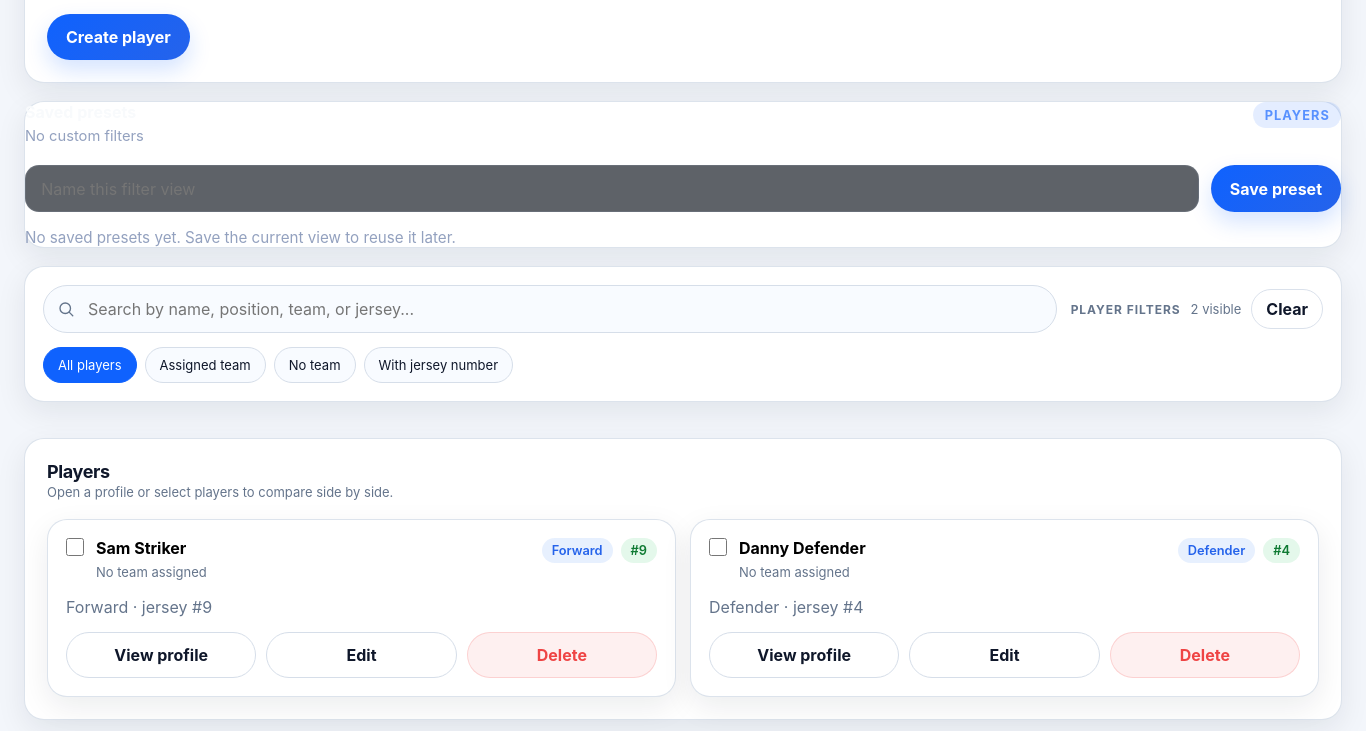
PlayersPage player comparison selection › clears the selection when Clear is clicked
This screenshot has width=1366, height=731.
(page scrolled)
Check: the text "Sam Striker" is shown, box [96, 538, 186, 558]
What coordinates should you click on to do the following:
click the checkbox named "Select Sam Striker for comparison"
I would click on:
 (75, 547)
Its box is [66, 538, 84, 556].
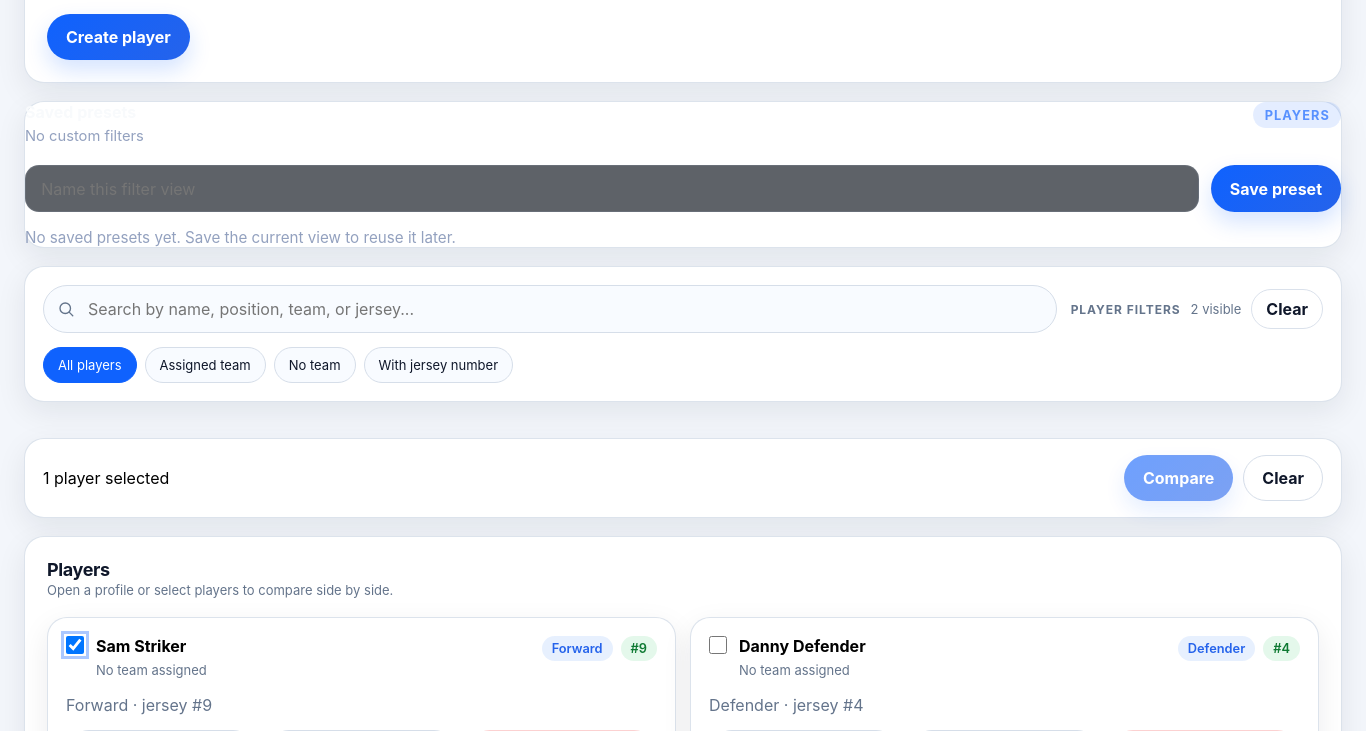
Check: the text "1 player selected" is shown, box [43, 468, 169, 488]
What coordinates should you click on to do the following:
click the 2nd button "Clear"
I would click on:
 (1283, 478)
Its box is [1243, 455, 1323, 501].
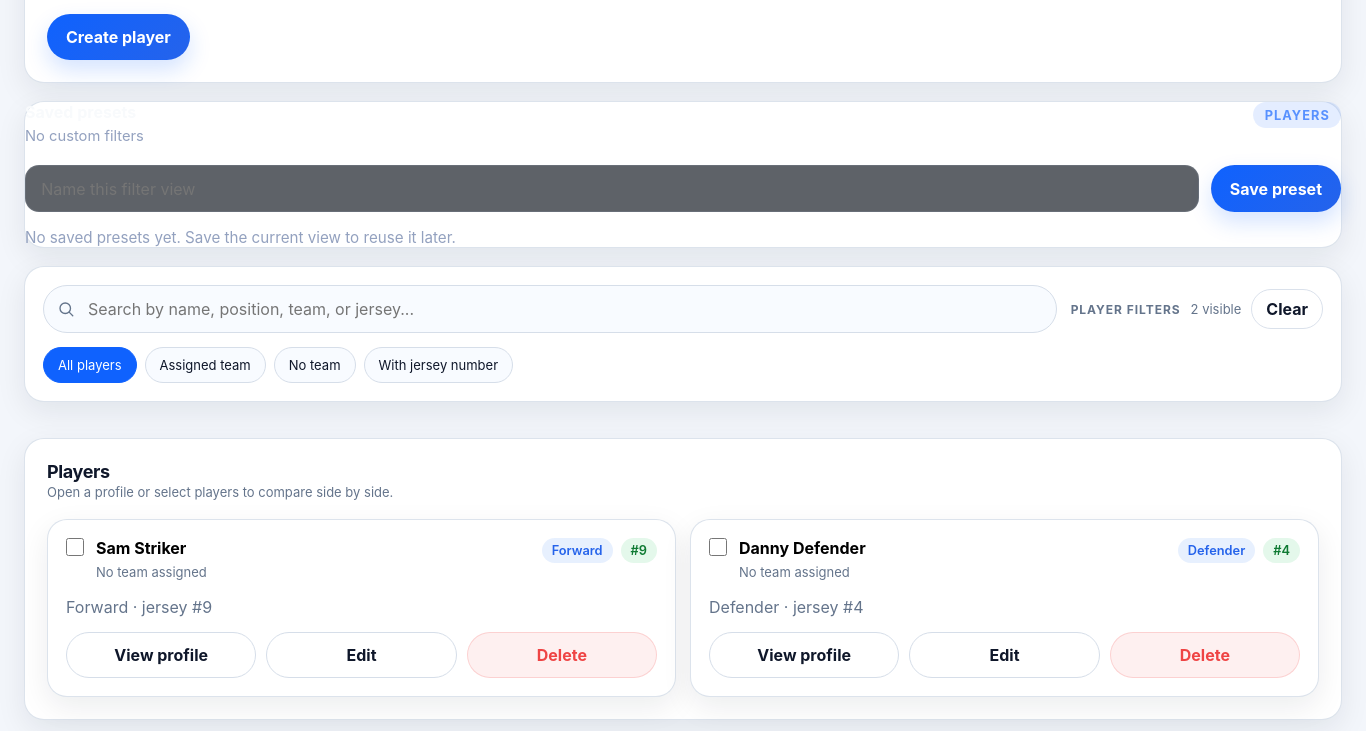
Check: the text "1 player selected" is gone
